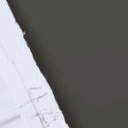crackTip: (1, 43, 47, 128)
